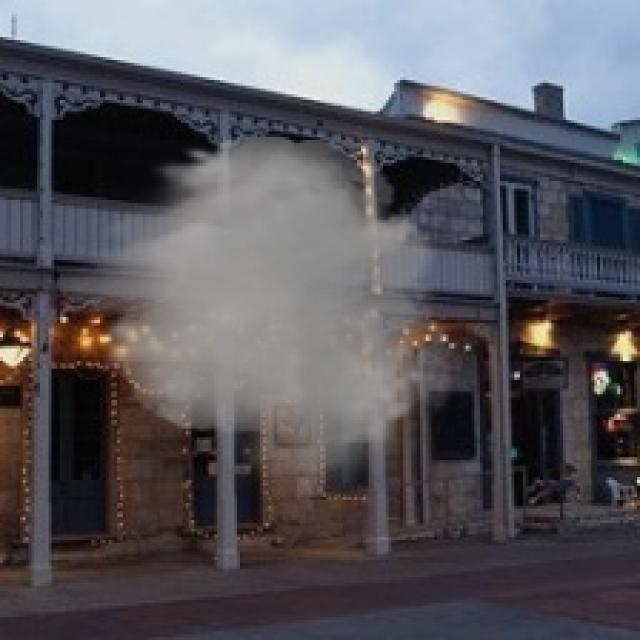Smoke: (54, 126, 469, 506)
